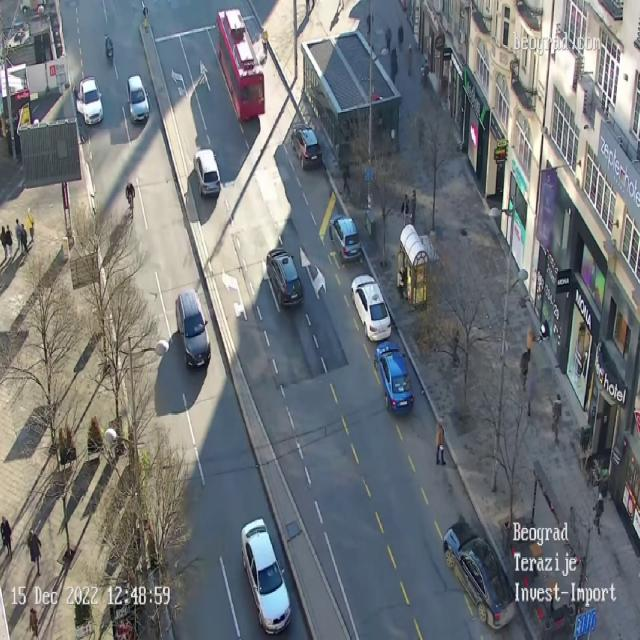bus: (215, 8, 265, 122)
car: (443, 520, 516, 630), (240, 518, 291, 635), (374, 341, 414, 416), (175, 288, 211, 369), (350, 274, 392, 341), (266, 248, 303, 308), (328, 214, 362, 262), (291, 123, 322, 170), (75, 76, 103, 125), (193, 148, 221, 197), (126, 74, 149, 123)
